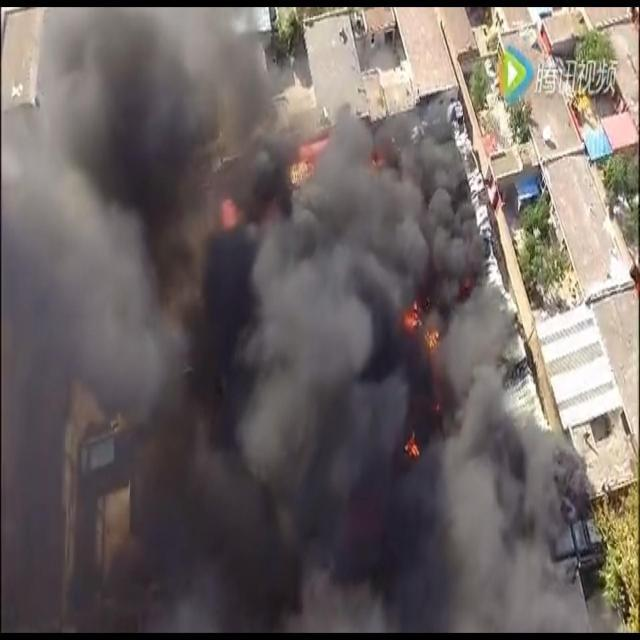Fire: (406, 290, 444, 356), (220, 192, 245, 238), (401, 430, 421, 460)
Smoke: (2, 6, 220, 634), (220, 232, 397, 638), (446, 247, 594, 640), (258, 111, 474, 231), (218, 13, 286, 180), (398, 467, 445, 635)
